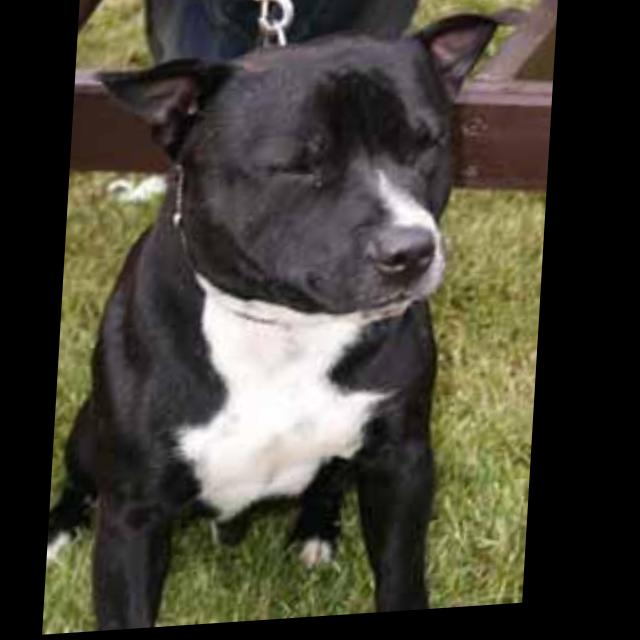staffford: (52, 14, 511, 637)
